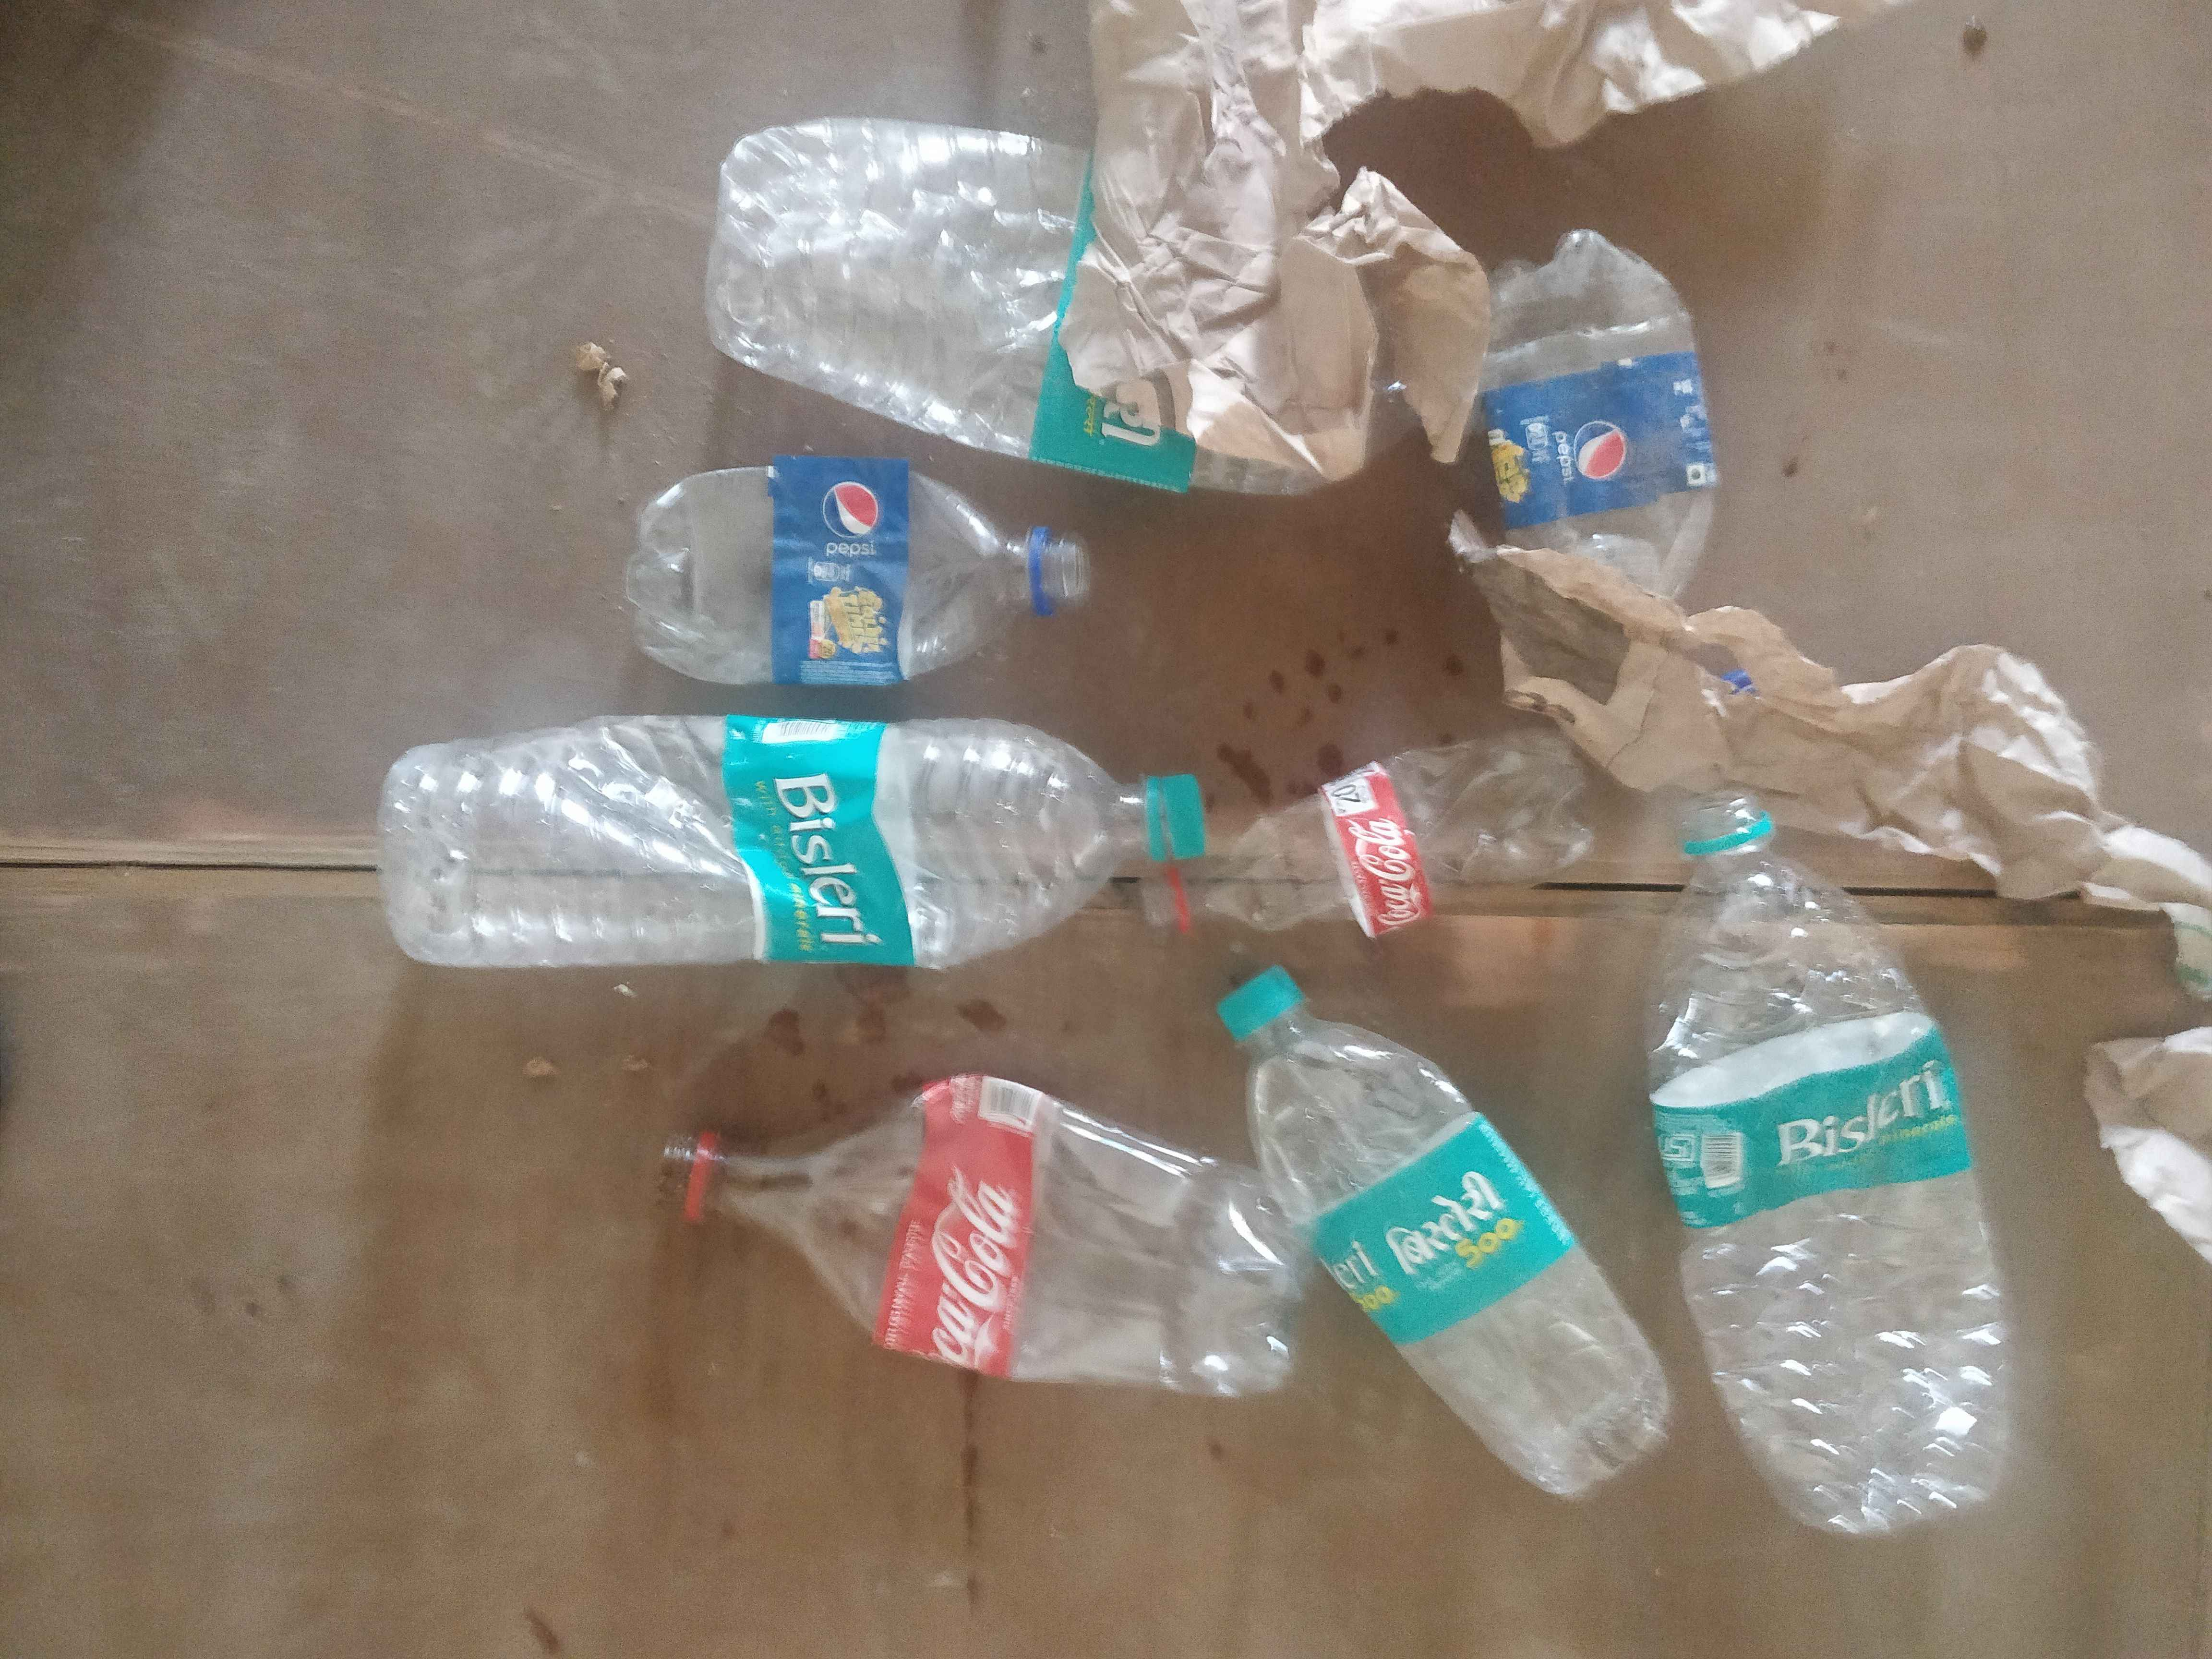Bisleri: (1677, 1056, 1966, 1213), (758, 714, 909, 960), (1318, 1152, 1505, 1323), (1052, 326, 1191, 490)
Coca-Cola: (906, 1096, 1029, 1387), (1348, 795, 1426, 941)
pepsi: (1500, 371, 1724, 514), (789, 457, 920, 680)
